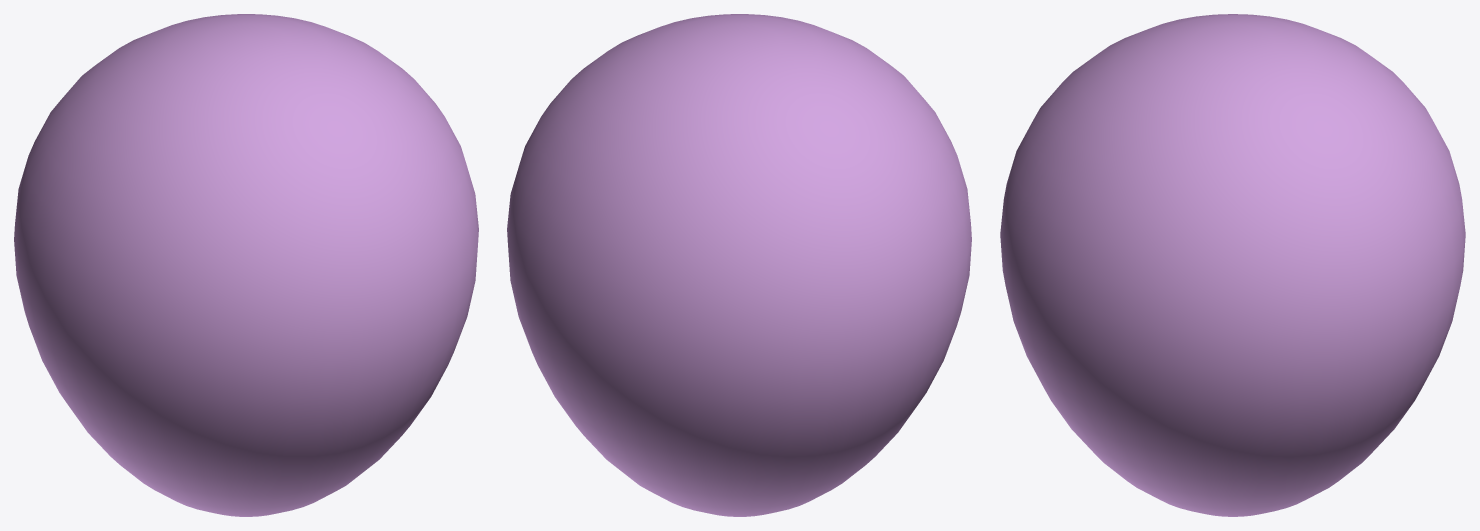
Rendered from grief.glb.
3 views of the same model, side by side, from view 1: azimuth 30°, elevation 25°; view 2: azimuth 150°, elevation 25°; view 3: azimuth 270°, elevation 25° (orthographic).
Bounding box in the file's own units: 1.82 × 2 × 1.82.
